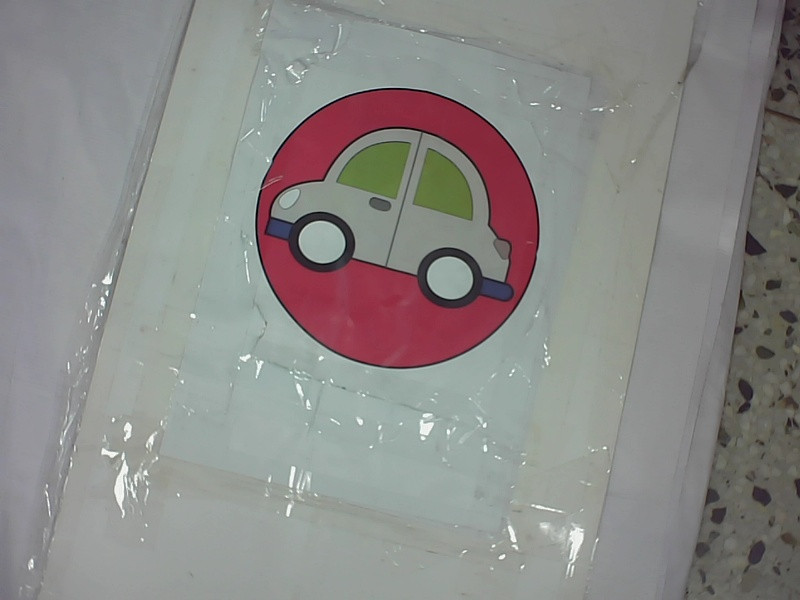areaC: (246, 84, 546, 377)
